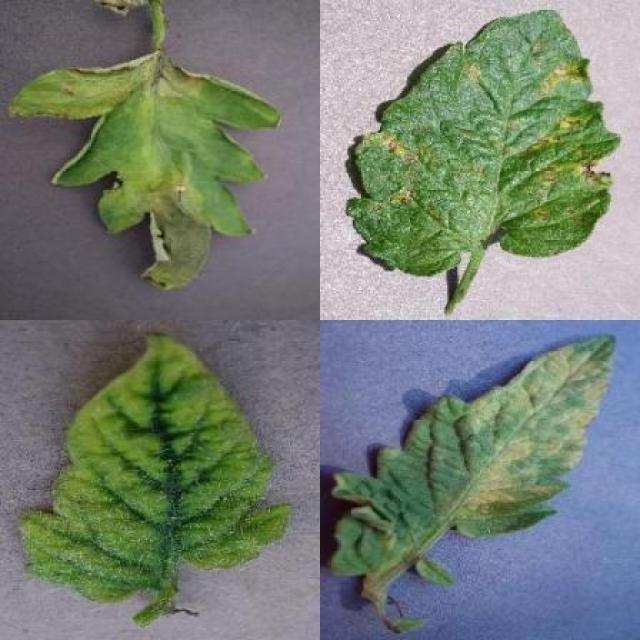Late Blight: (4, 49, 285, 292)
Leaf Mold: (332, 334, 615, 574)
Septoria: (345, 7, 621, 277)
Yellow Leaf Curl Virus: (18, 331, 295, 606)
